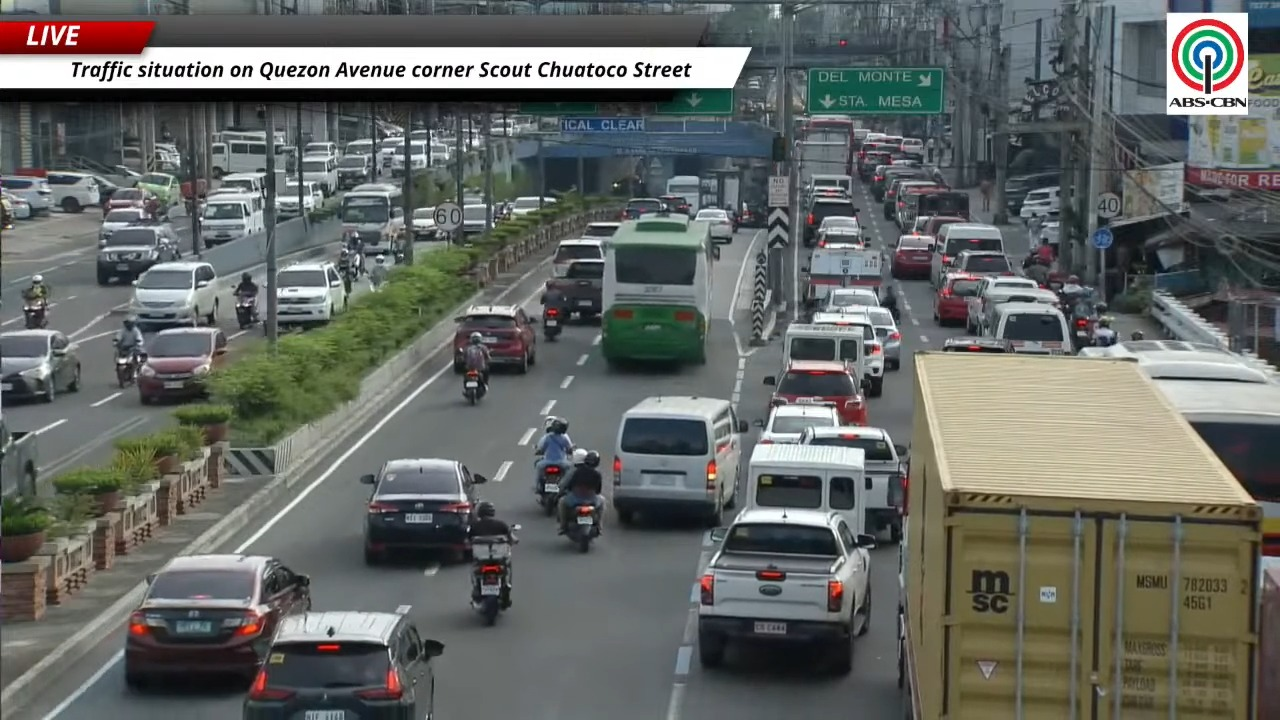bus: (1080, 340, 1279, 556), (1156, 378, 1279, 556), (601, 212, 718, 365), (340, 183, 405, 254), (799, 115, 856, 174), (210, 139, 266, 178), (665, 175, 701, 214), (211, 129, 266, 143)
car: (123, 554, 310, 689), (241, 611, 443, 719), (360, 459, 487, 565), (799, 426, 907, 541), (136, 327, 227, 403), (810, 306, 885, 396), (764, 361, 867, 425), (128, 261, 218, 327), (0, 329, 80, 402), (453, 305, 536, 373), (96, 219, 181, 285), (276, 261, 347, 325), (966, 275, 1038, 332), (756, 403, 842, 443), (803, 195, 858, 245), (882, 178, 937, 227), (1005, 170, 1060, 215), (933, 273, 980, 325), (44, 171, 100, 212), (864, 307, 901, 368), (0, 175, 52, 215), (870, 165, 925, 202), (552, 238, 603, 277), (890, 234, 933, 278), (277, 180, 325, 219), (99, 207, 149, 241), (135, 172, 180, 207), (952, 250, 1013, 275), (819, 287, 879, 311), (1019, 186, 1060, 220), (336, 154, 373, 189), (694, 208, 733, 241), (104, 188, 153, 213), (816, 225, 867, 248), (942, 336, 1012, 352), (461, 203, 495, 235), (921, 216, 968, 239), (411, 207, 441, 242), (620, 198, 667, 219), (818, 215, 862, 236), (511, 196, 556, 216), (0, 192, 32, 219), (658, 194, 691, 215), (739, 204, 767, 227), (581, 223, 620, 238), (905, 215, 934, 233), (899, 137, 924, 156)
motorcycle: (471, 537, 517, 625), (564, 504, 599, 552), (538, 465, 562, 516), (114, 348, 142, 388), (235, 293, 258, 329), (463, 370, 486, 404), (542, 308, 564, 341), (23, 298, 46, 328), (1072, 318, 1093, 348)
truck: (898, 352, 1261, 719), (697, 506, 874, 674), (801, 244, 882, 308), (1257, 557, 1279, 719), (546, 259, 603, 319), (0, 414, 38, 496)
